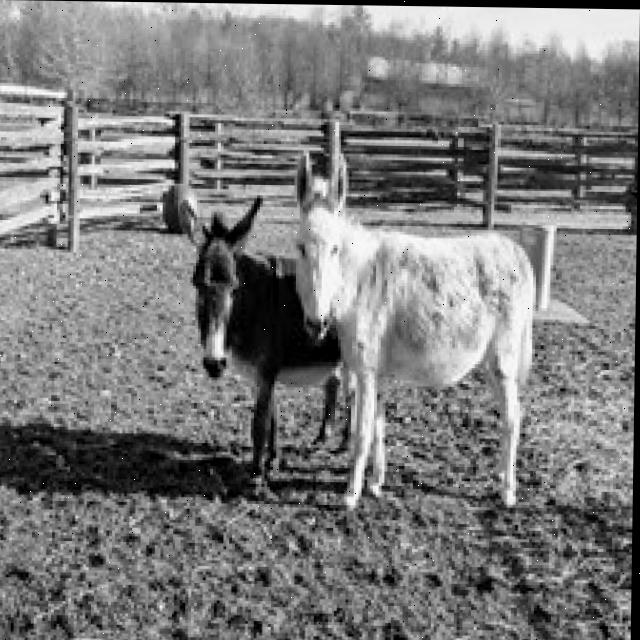Donkey: (287, 150, 538, 511), (176, 191, 354, 488)
